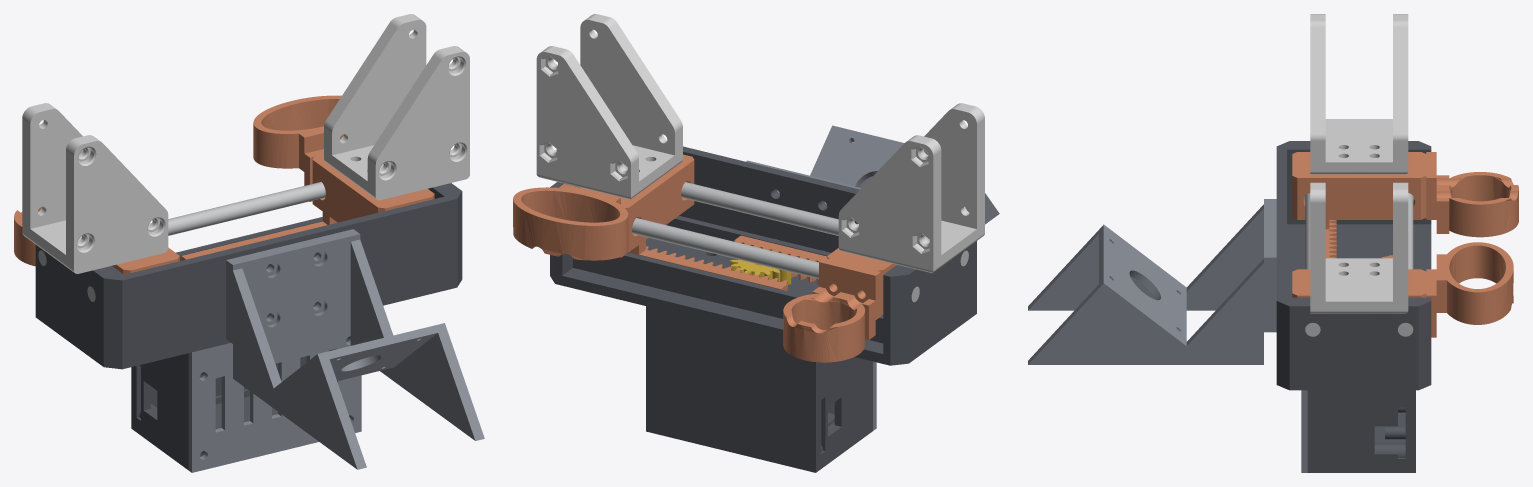
Rendered from collector_open.gltf.
The picture shows the model from 3 angles, left to right: view 1: azimuth 30°, elevation 25°; view 2: azimuth 150°, elevation 25°; view 3: azimuth 270°, elevation 25°; orthographic projection. The views are drawn at different scales.
Parts seen in each view (by area): view 1: cam_imx335_mount, frame, tip_R, tip_L, pod_lid, pod, ring_index, carriage_R, rod_bottom, carriage_L, ring_thumb; view 2: frame, pod, tip_R, tip_L, ring_thumb, ring_index, carriage_R, cam_imx335_mount, rod_bottom, rod_top, carriage_L, pinion; view 3: cam_imx335_mount, frame, pod, tip_L, tip_R, carriage_L, ring_index, ring_thumb, carriage_R, rod_top, rod_bottom, pod_lid.
Part boxes in pixels (left/top/right/bottom): cam_imx335_mount: left=226, top=229, right=484, bottom=469; frame: left=35, top=183, right=462, bottom=369; tip_R: left=324, top=14, right=469, bottom=200; tip_L: left=22, top=103, right=168, bottom=273; pod_lid: left=188, top=315, right=361, bottom=472; pod: left=131, top=336, right=350, bottom=470; ring_index: left=253, top=95, right=343, bottom=201; carriage_R: left=181, top=154, right=434, bottom=260; rod_bottom: left=38, top=182, right=325, bottom=265; carriage_L: left=112, top=247, right=179, bottom=274; ring_thumb: left=14, top=207, right=42, bottom=266; frame: left=550, top=146, right=976, bottom=365; pod: left=646, top=306, right=872, bottom=472; tip_R: left=536, top=14, right=682, bottom=199; tip_L: left=838, top=103, right=984, bottom=273; ring_thumb: left=783, top=258, right=881, bottom=362; ring_index: left=513, top=184, right=628, bottom=260; carriage_R: left=581, top=154, right=787, bottom=291; cam_imx335_mount: left=746, top=125, right=999, bottom=251; rod_bottom: left=632, top=218, right=919, bottom=302; rod_top: left=681, top=182, right=968, bottom=266; carriage_L: left=734, top=235, right=896, bottom=314; pinion: left=730, top=258, right=791, bottom=287; cam_imx335_mount: left=1028, top=199, right=1276, bottom=364; frame: left=1276, top=141, right=1431, bottom=390; pod: left=1307, top=390, right=1415, bottom=472; tip_L: left=1310, top=14, right=1408, bottom=174; tip_R: left=1310, top=182, right=1408, bottom=313; carriage_L: left=1292, top=152, right=1426, bottom=258; ring_index: left=1426, top=242, right=1513, bottom=337; ring_thumb: left=1426, top=152, right=1518, bottom=237; carriage_R: left=1292, top=255, right=1426, bottom=297; rod_top: left=1305, top=193, right=1320, bottom=336; rod_bottom: left=1398, top=193, right=1413, bottom=336; pod_lid: left=1301, top=390, right=1307, bottom=472.
Bounding box in the file's own units: 0.168 × 0.1421 × 0.1906.
